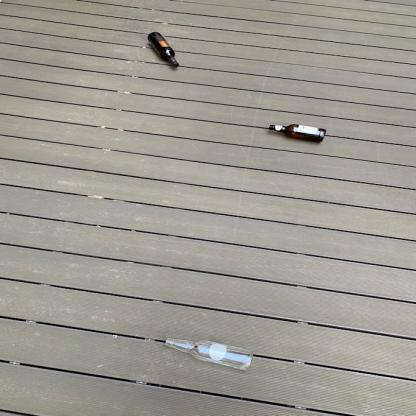trash: (162, 336, 262, 371), (144, 30, 182, 72), (266, 122, 328, 144)
